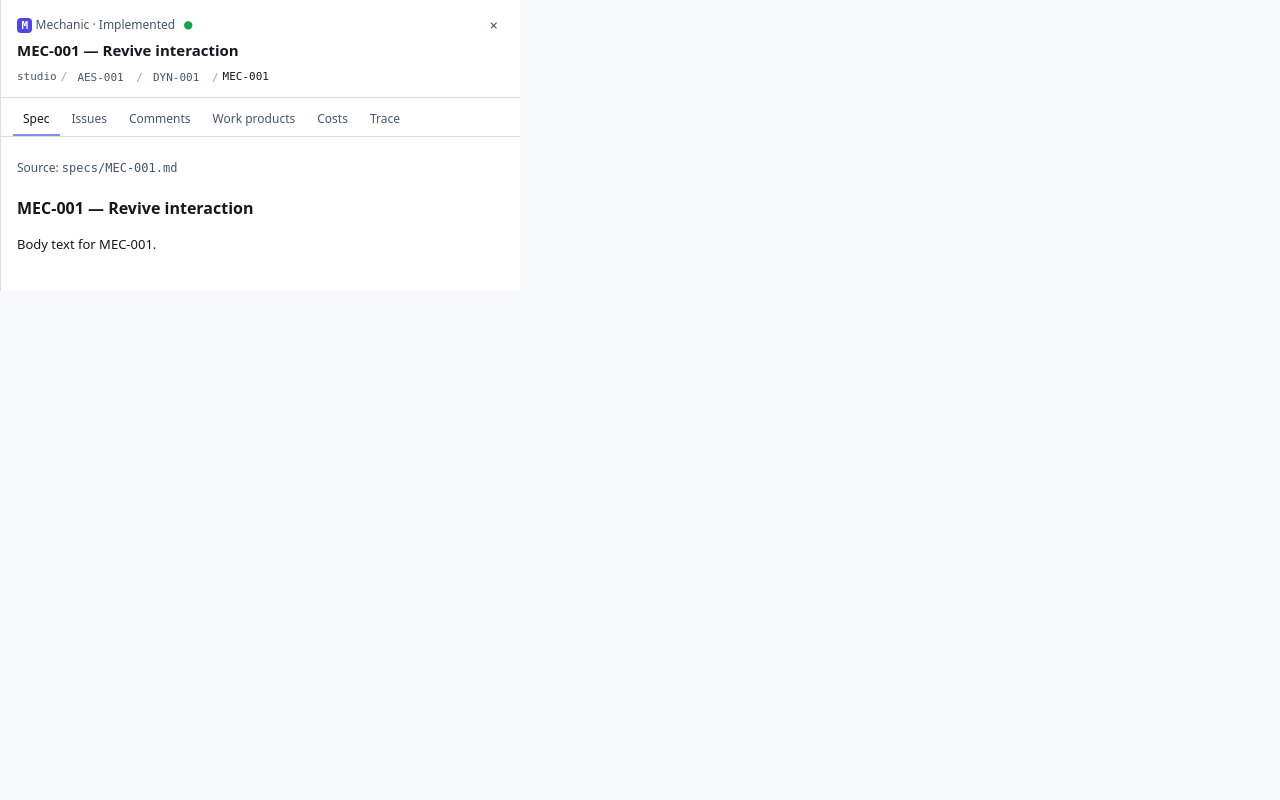
Test: NodeDrawer › Comments tab shows an empty state when there are no comments
Click the tab "Comments".
click(160, 120)  # box [119,104,201,136]
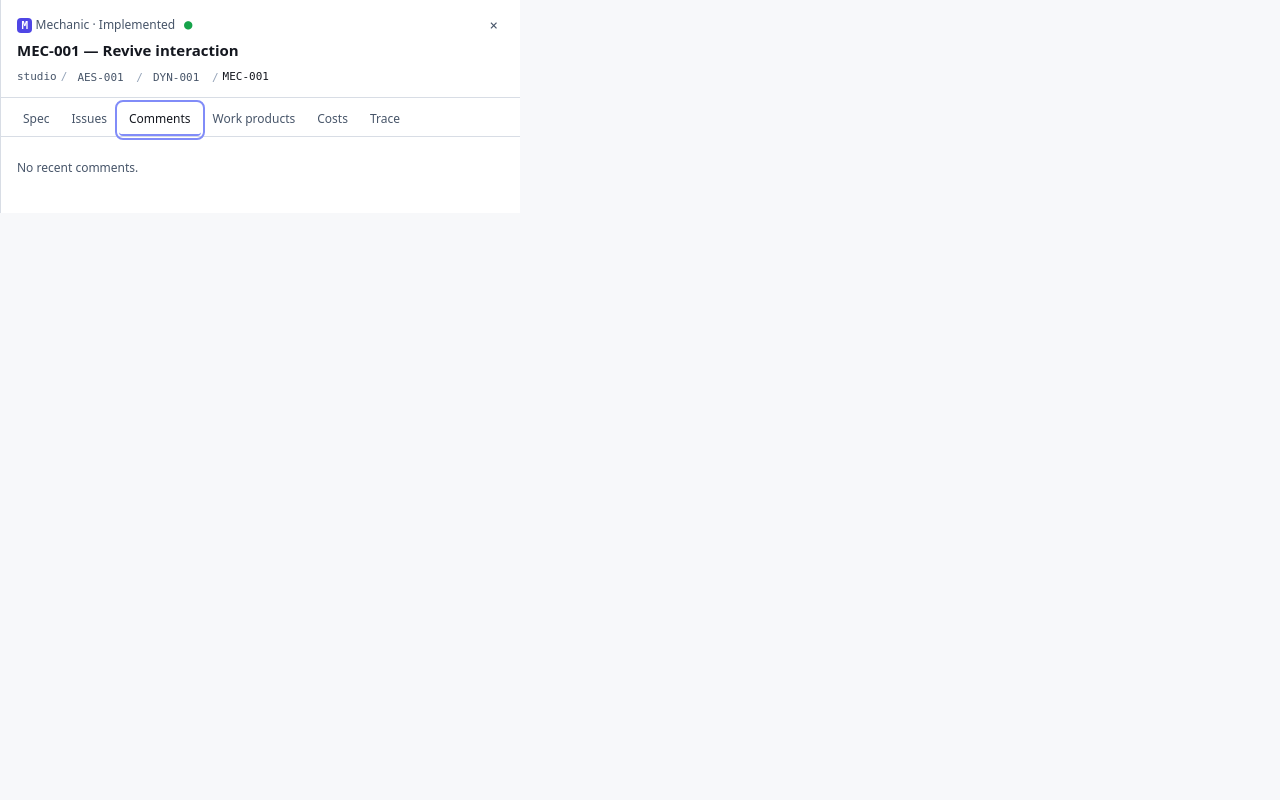
Now the text "No recent comments." is shown, box [17,159,138,176]
